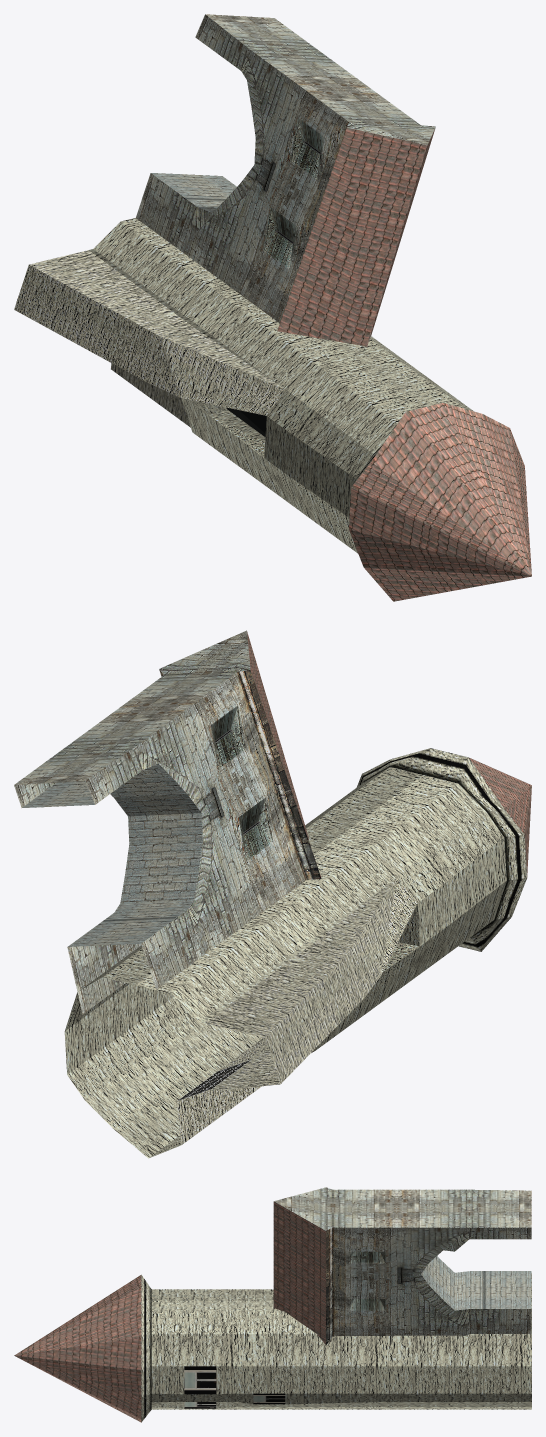
Rendered from Viru21a-origo.obj.
3 views of the same model, one above another, from view 1: azimuth 30°, elevation 25°; view 2: azimuth 150°, elevation 25°; view 3: azimuth 270°, elevation 25° (orthographic). The views are drawn at different scales.
Parts seen in each view (by area): view 1: Viru21a; view 2: Viru21a; view 3: Viru21a.
Part boxes in pixels (left/top/right/bottom): Viru21a: left=14, top=14, right=531, bottom=601; Viru21a: left=14, top=630, right=531, bottom=1158; Viru21a: left=14, top=1187, right=531, bottom=1422.
Size of the model in its own units: 6.81 by 8.5 by 16.66.
